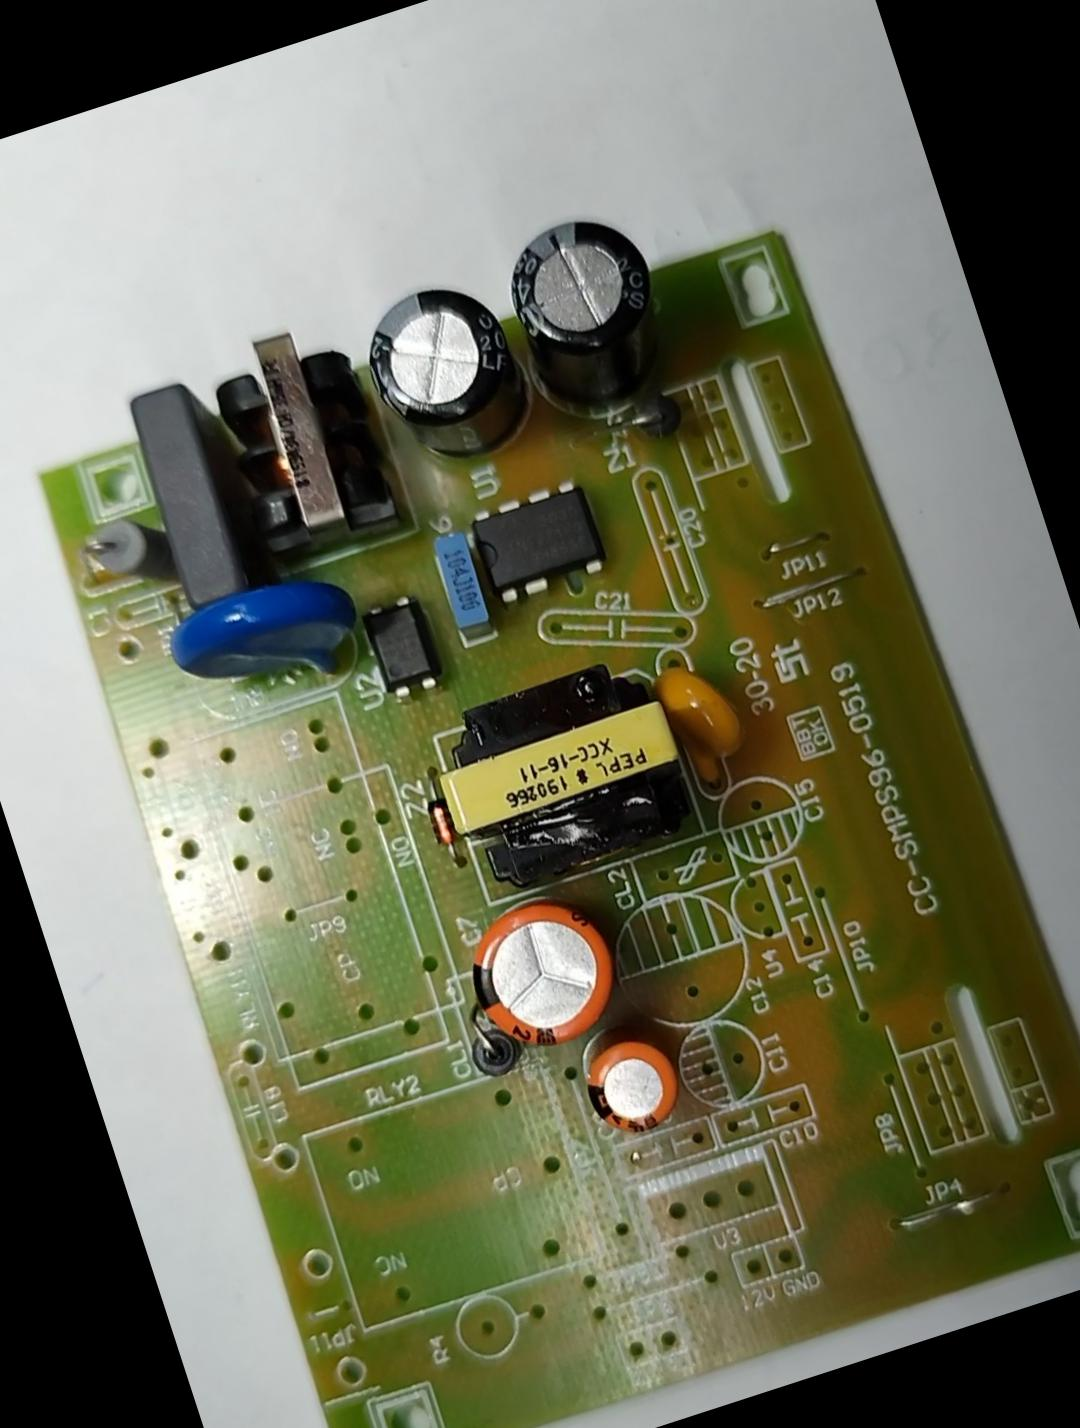Cap1: (454, 882, 630, 1068)
Cap2: (574, 1028, 692, 1147)
Cap3: (351, 265, 538, 478)
Cap4: (493, 202, 689, 424)
MOSFET: (466, 473, 608, 608)
Mov: (157, 556, 376, 720)
Resistor: (78, 502, 185, 610)
Transformer: (424, 647, 722, 912), (191, 302, 413, 573)
